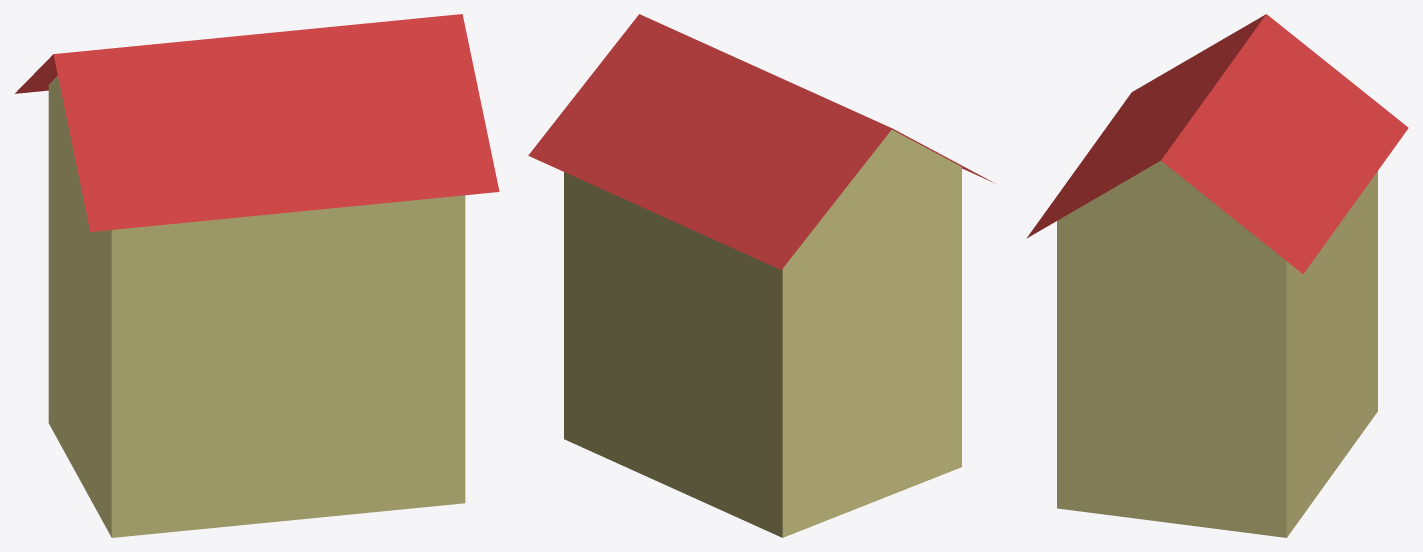
3 renders of one model, left to right at view 1: azimuth 30°, elevation 25°; view 2: azimuth 150°, elevation 25°; view 3: azimuth 270°, elevation 25°, orthographic. The views are drawn at different scales.
Parts seen in each view (by area): view 1: group_5, group_3, group_4; view 2: group_5, group_3, group_4; view 3: group_5, group_3, group_4.
Boxes of the visible parts, x1,y1,x2,y2 form: group_5: (48,75,465,537); group_3: (15,16,469,231); group_4: (18,14,499,231); group_5: (564,130,961,537); group_3: (528,14,994,269); group_4: (611,121,908,269); group_5: (1057,161,1377,537); group_3: (1057,14,1407,273); group_4: (1026,14,1408,271).
Bounding box in the file's own units: 13.08 × 11.61 × 12.46.
